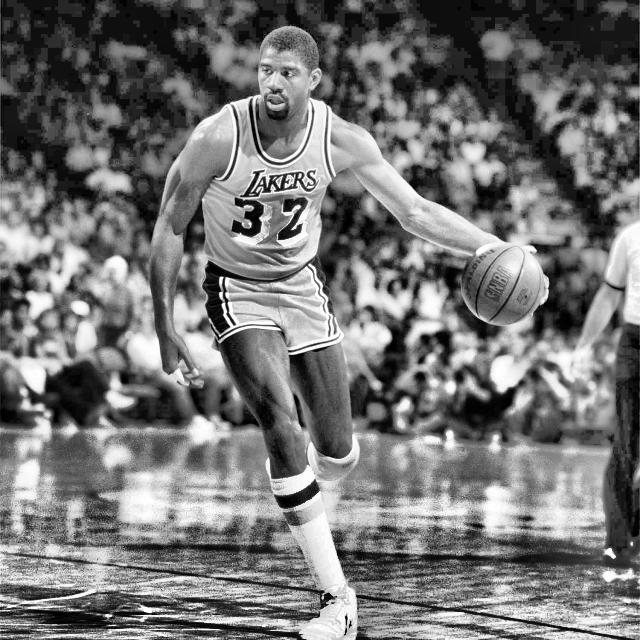Basketball: (462, 243, 546, 326)
